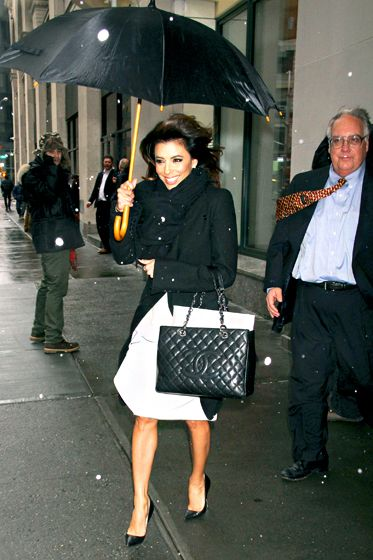channel: (152, 321, 266, 410), (178, 343, 229, 385)
